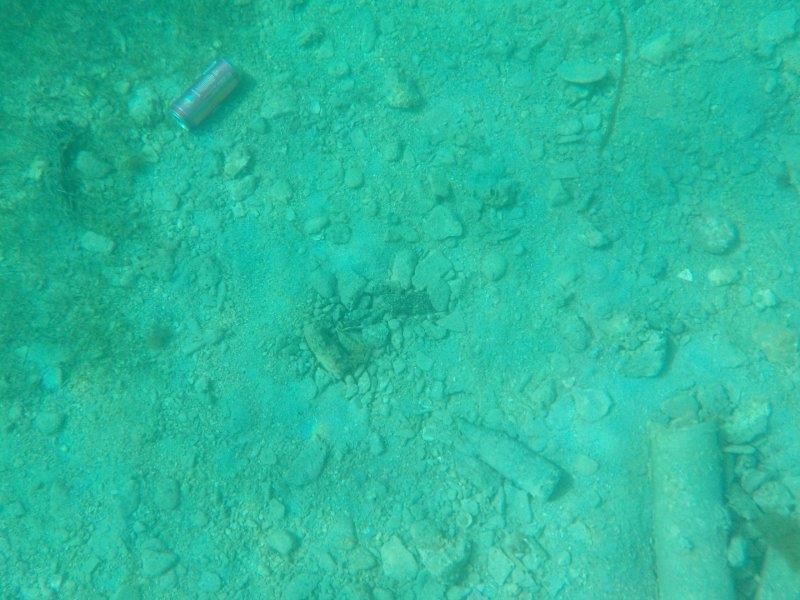bottle: (448, 413, 565, 505)
